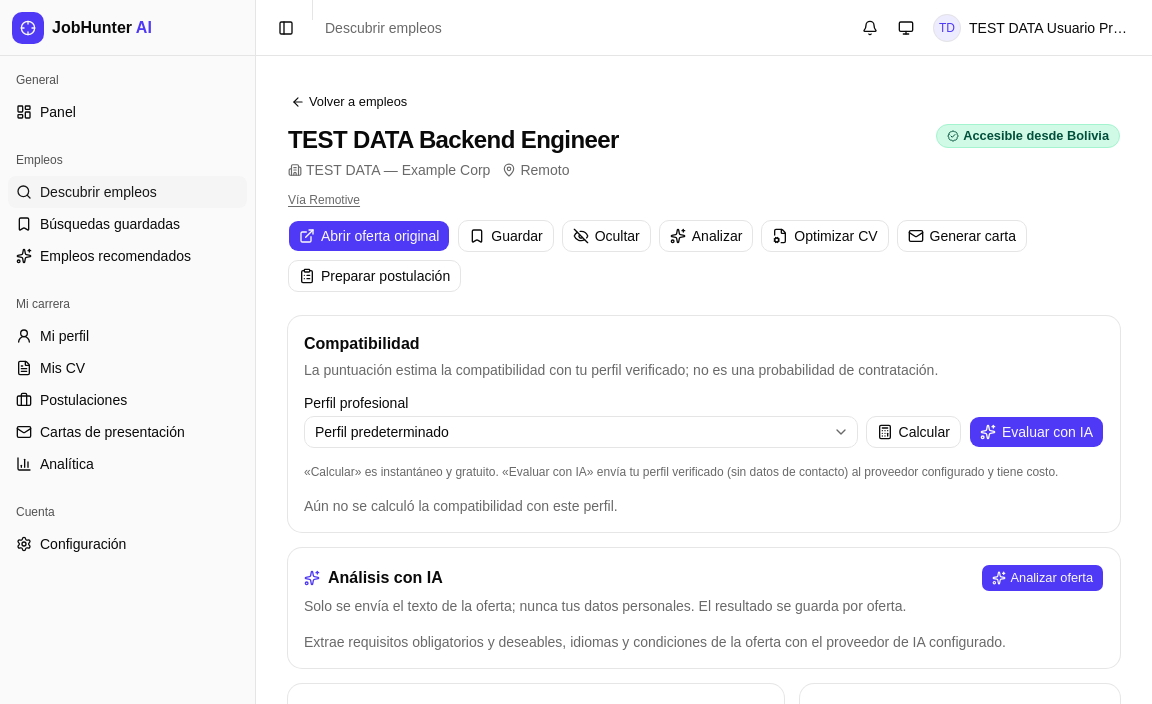
Test case: Análisis con IA › explains 409 ALREADY_RUNNING from the top "Analizar" button
Click the button "Analizar" at (706, 236), box [659,220,753,252]
(page scrolled)
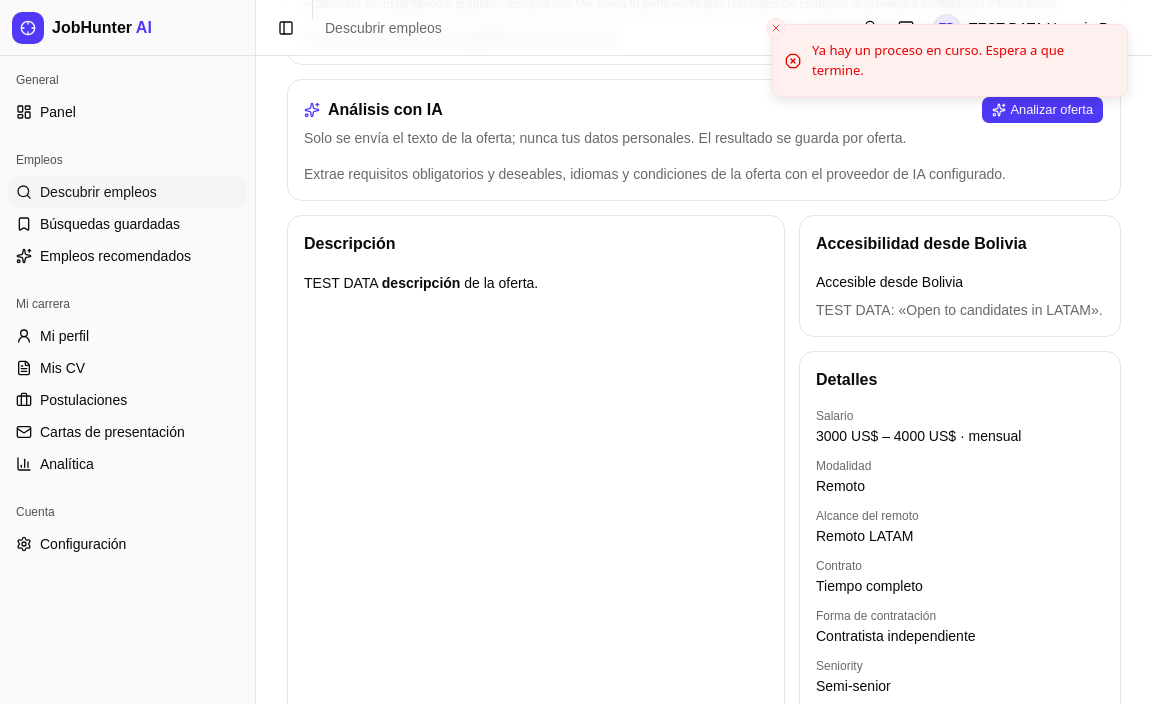
Now the text "Ya hay un proceso en curso. Espera a que termine." is shown, box [812,41,1064,78]
